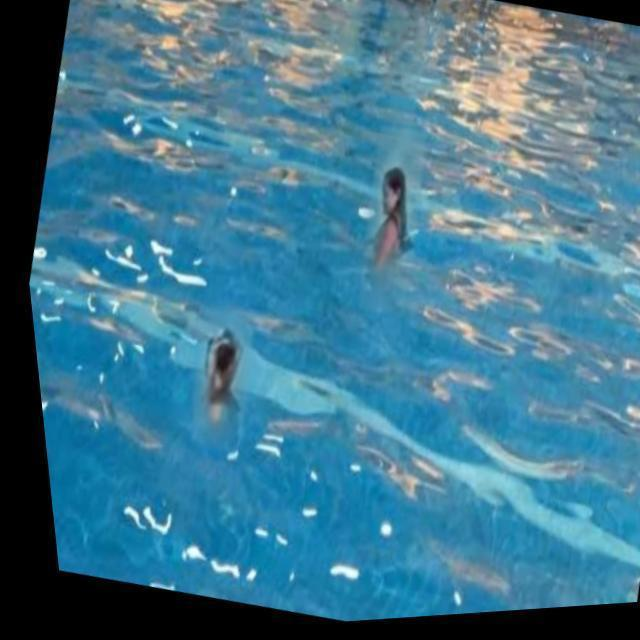swimming: (187, 298, 272, 460), (358, 145, 435, 278)
